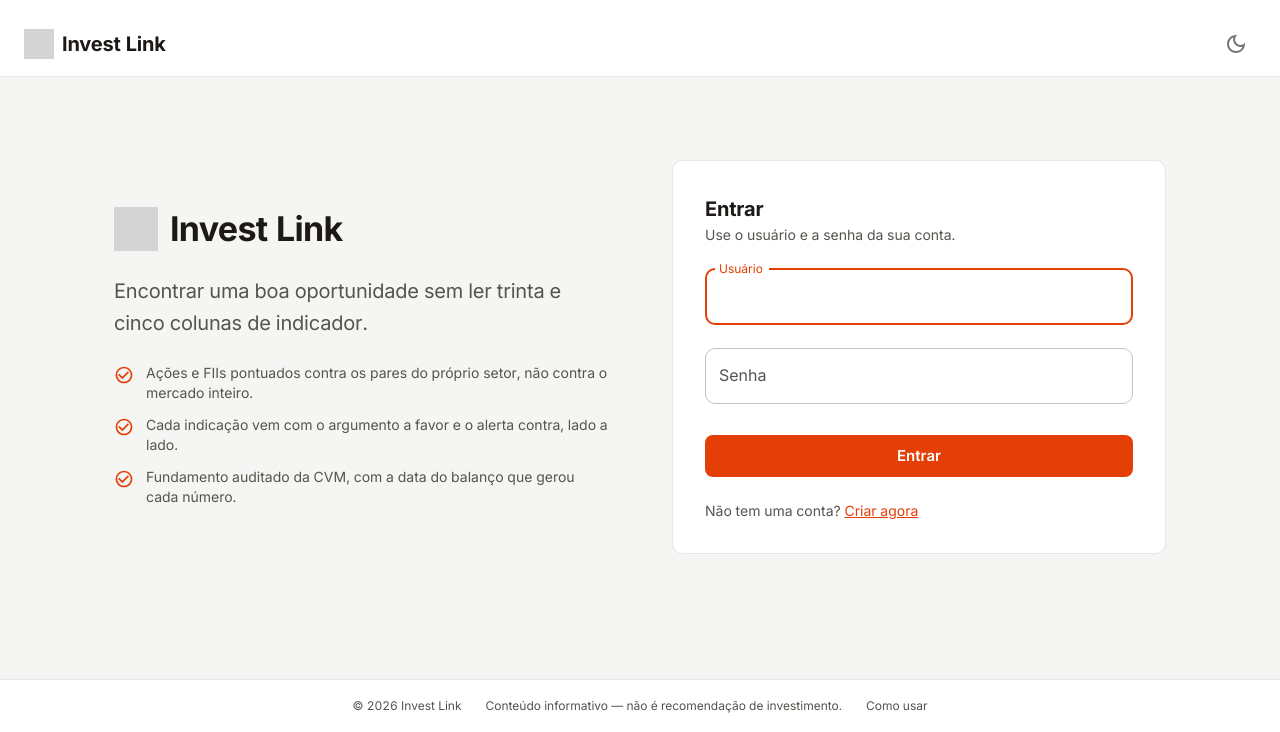
Autenticação › login com credenciais válidas redireciona para fora do login
In the field named "login": (919, 297) [705,269,1133,325], type "testuser"
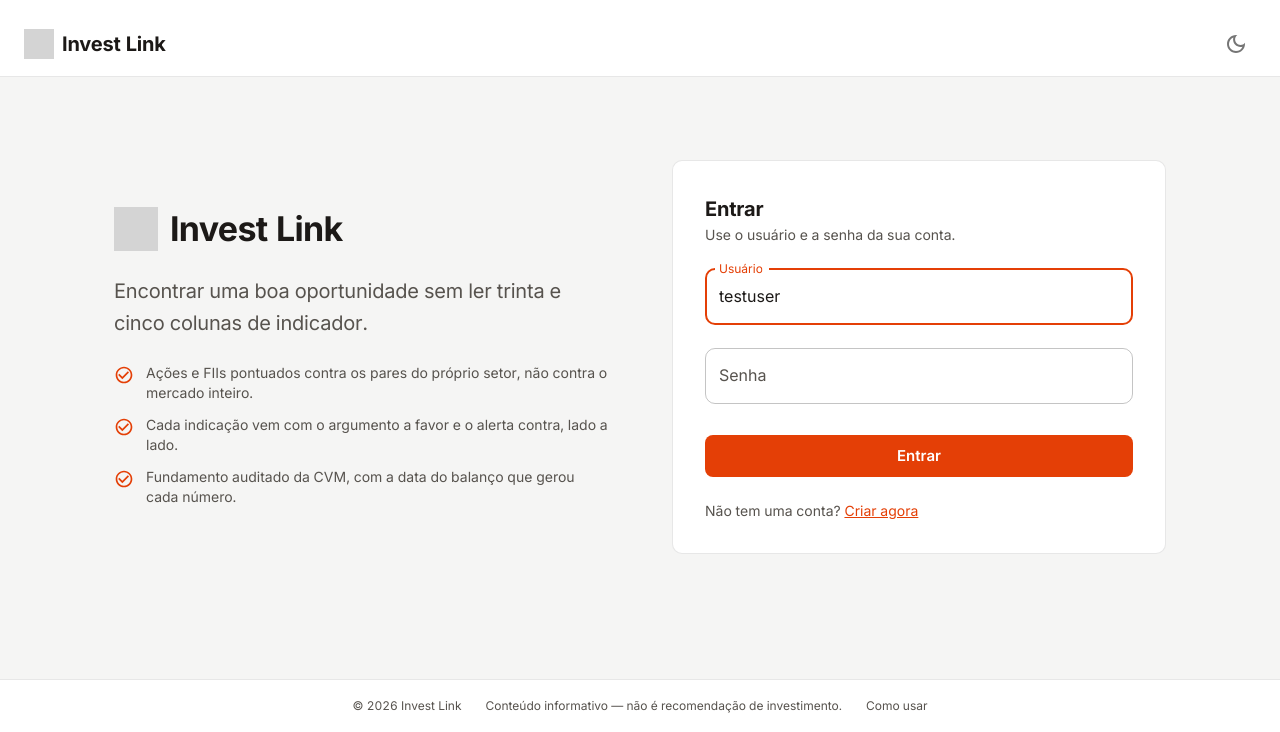
In the password field named "password": (919, 376) [705,348,1133,404], type "password123"
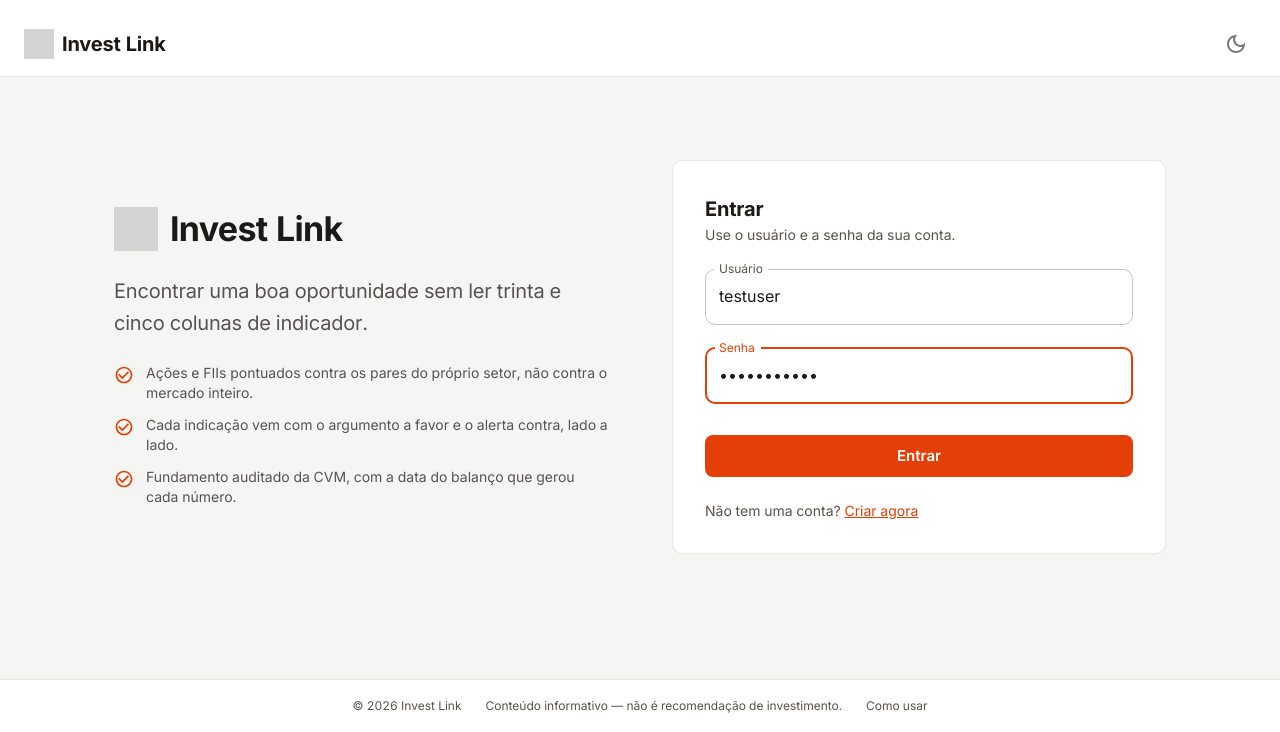
Click the submit button: (919, 456) [705,435,1133,477]
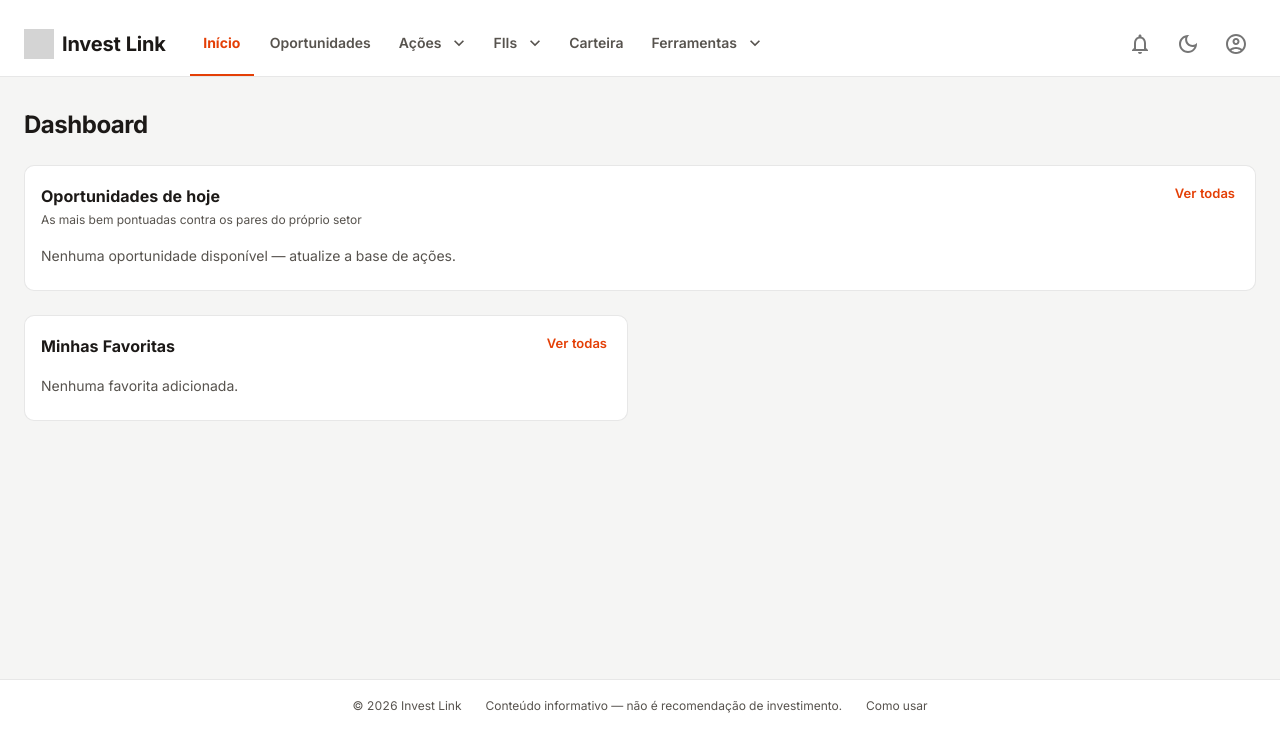
Expected: the heading "Dashboard" is shown, [24,110,148,139]
